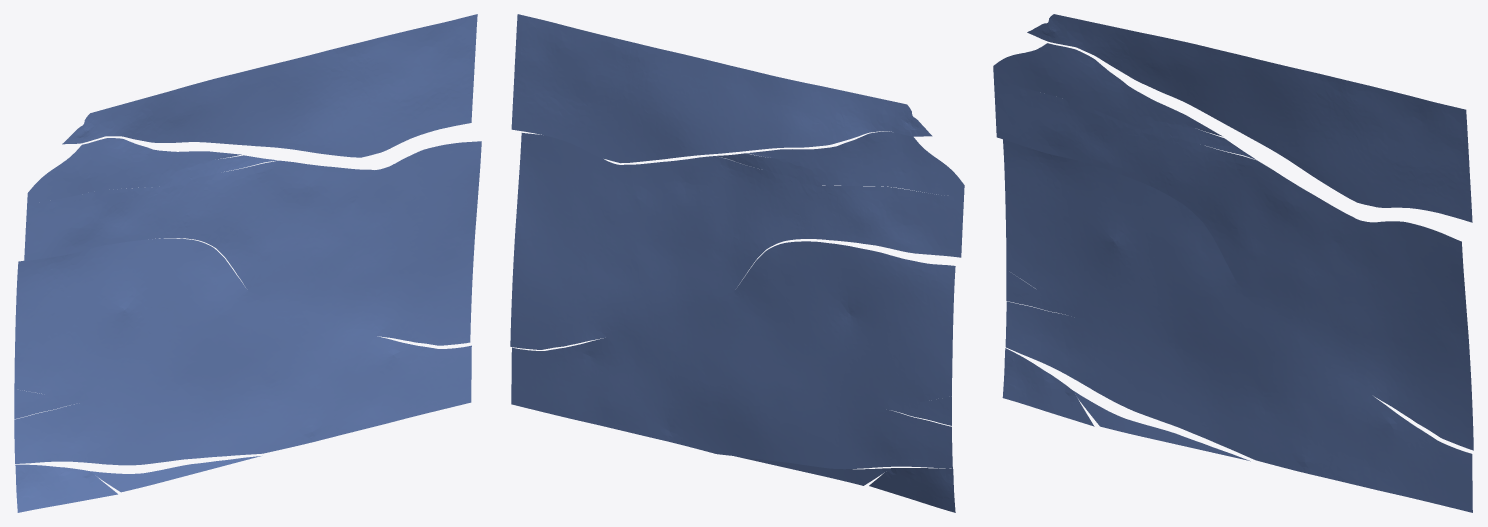
Rendered from 12_KiltongueCoal_50m_GGERFS_Predrill.gltf.
3 views of the same model, side by side, from view 1: azimuth 30°, elevation 25°; view 2: azimuth 150°, elevation 25°; view 3: azimuth 330°, elevation 25° (orthographic). The views are drawn at different scales.
Visible parts, largest first — view 1: 12_KILTONGUECOAL_50M_GGERFS_PREDRILL; view 2: 12_KILTONGUECOAL_50M_GGERFS_PREDRILL; view 3: 12_KILTONGUECOAL_50M_GGERFS_PREDRILL.
Part boxes in pixels (<box>): 12_KILTONGUECOAL_50M_GGERFS_PREDRILL: <box>14,14,481,512</box>; 12_KILTONGUECOAL_50M_GGERFS_PREDRILL: <box>510,14,964,512</box>; 12_KILTONGUECOAL_50M_GGERFS_PREDRILL: <box>993,14,1473,512</box>.
Size of the model in its own units: 5005 by 4150 by 292.
